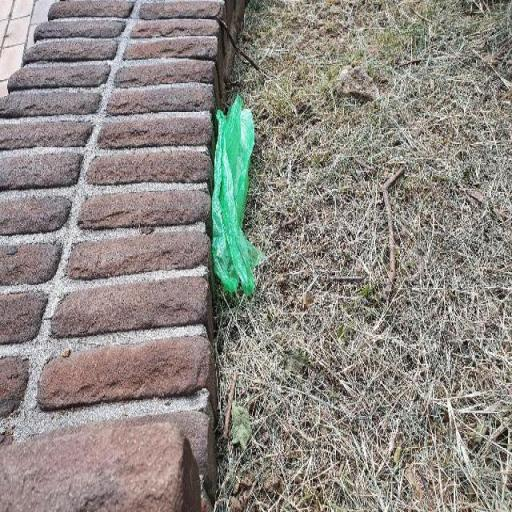plastic-bag: (208, 96, 262, 296)
